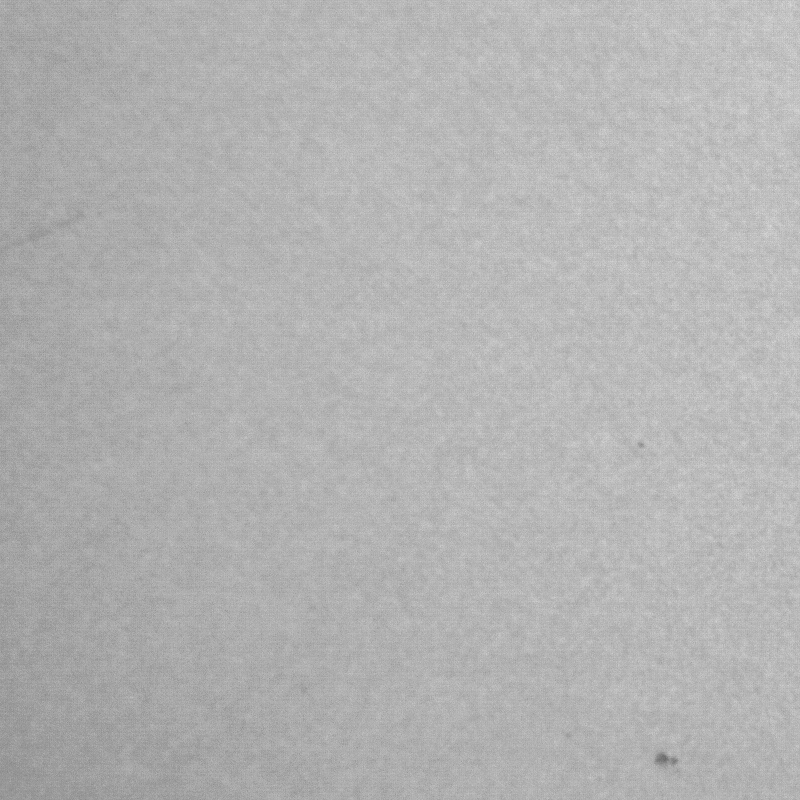defect: (1, 212, 85, 250), (648, 750, 696, 770)
